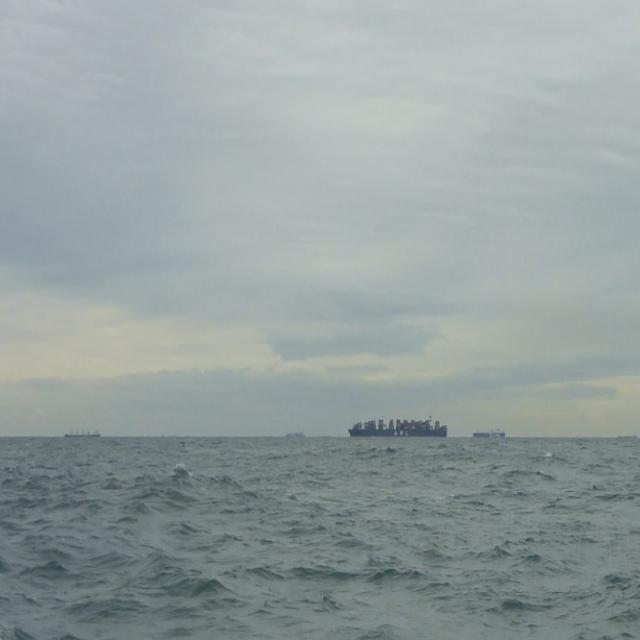cargoship: (347, 411, 448, 440)
